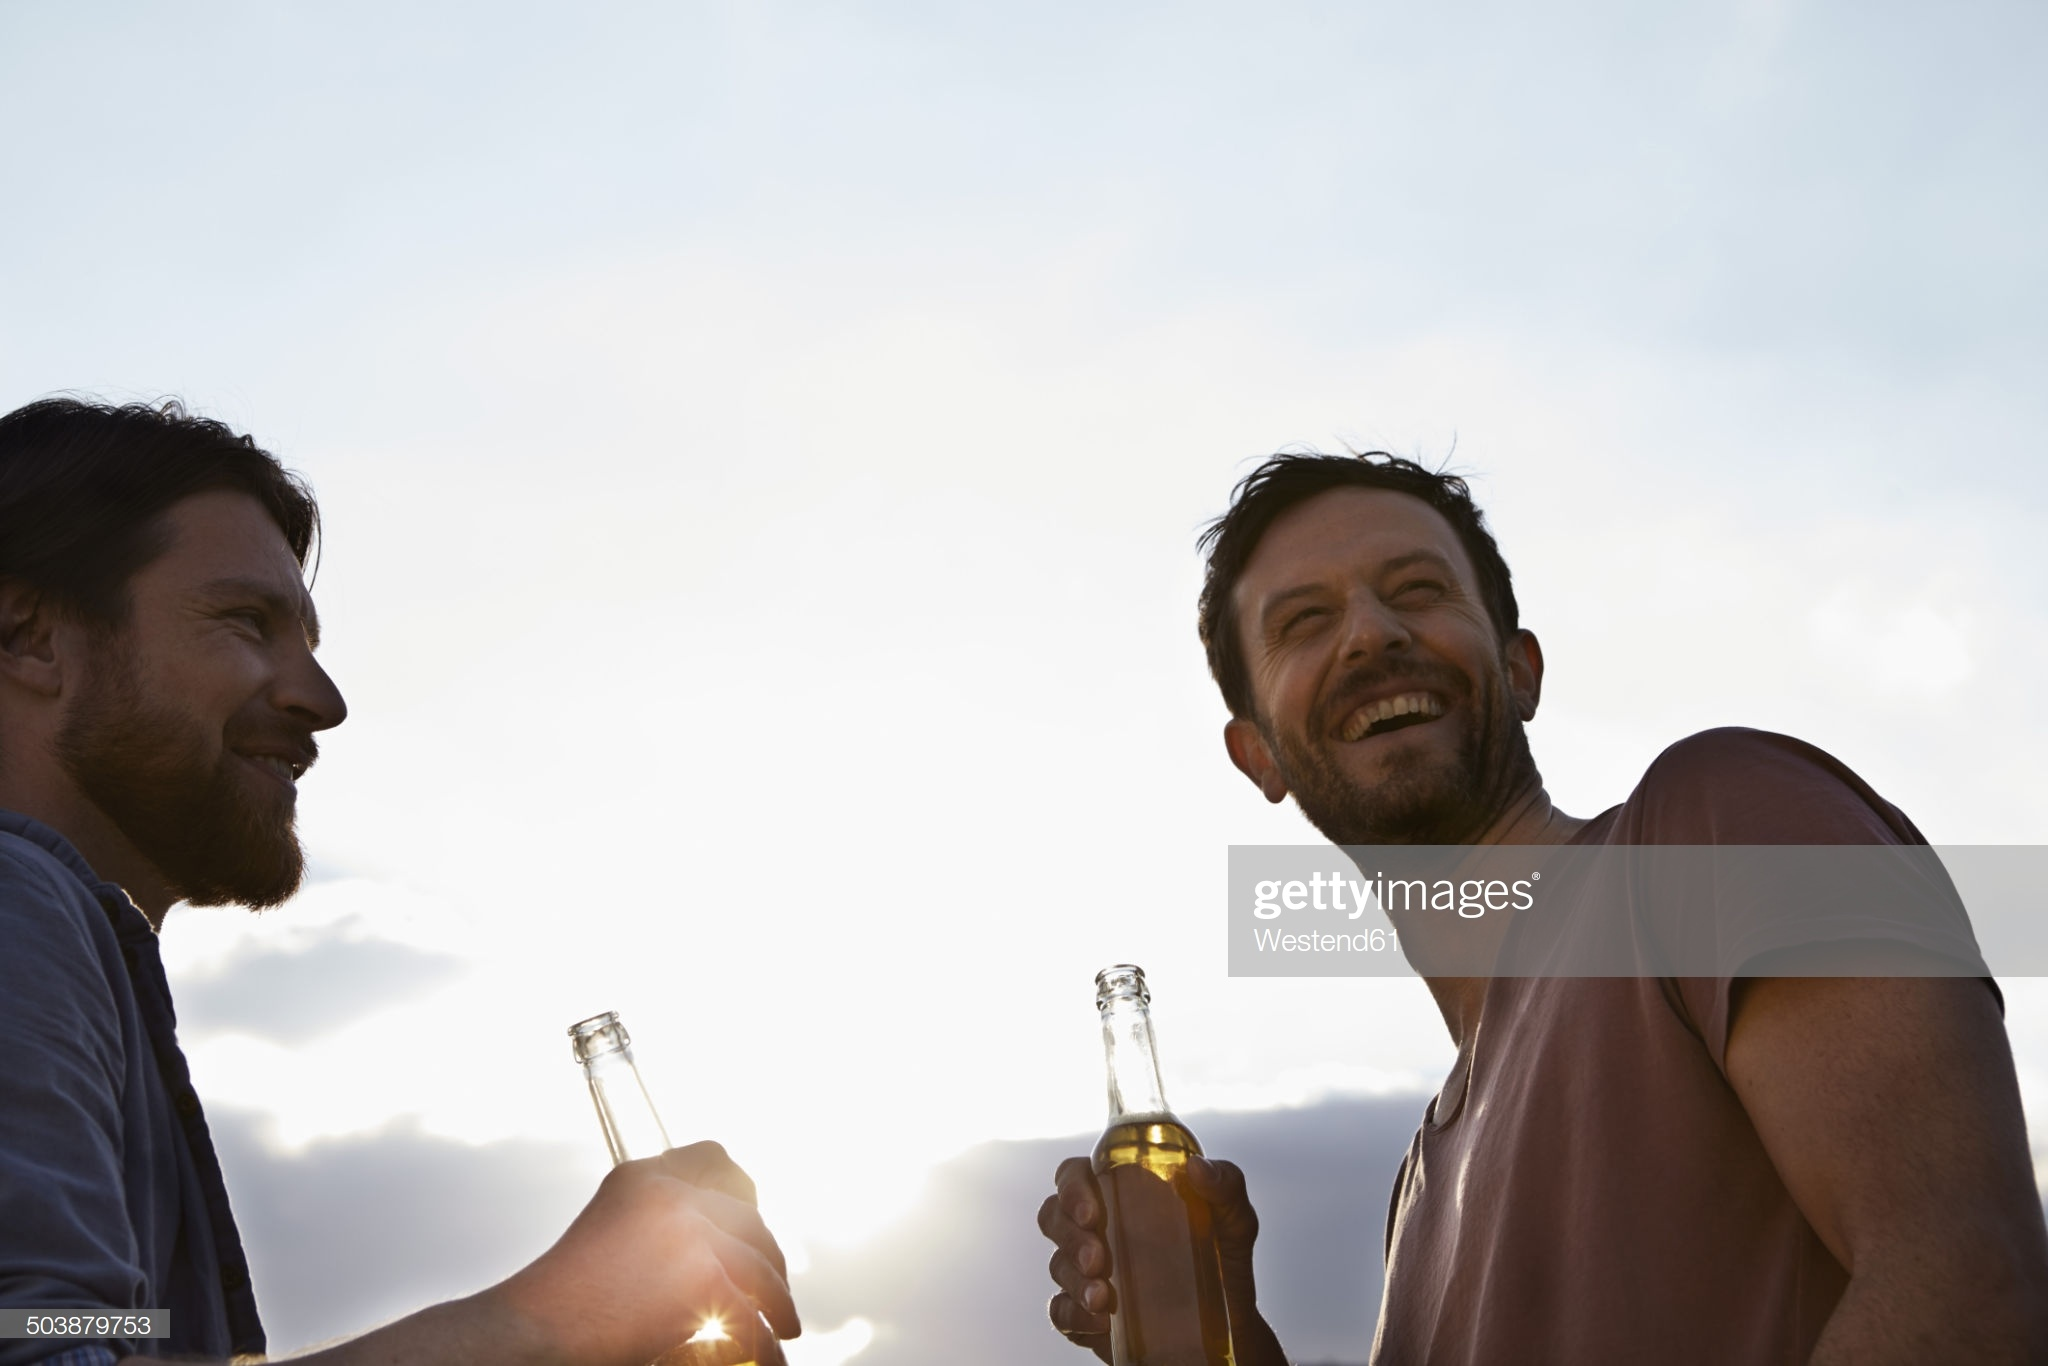beerBottle: (1082, 971, 1245, 1366)
